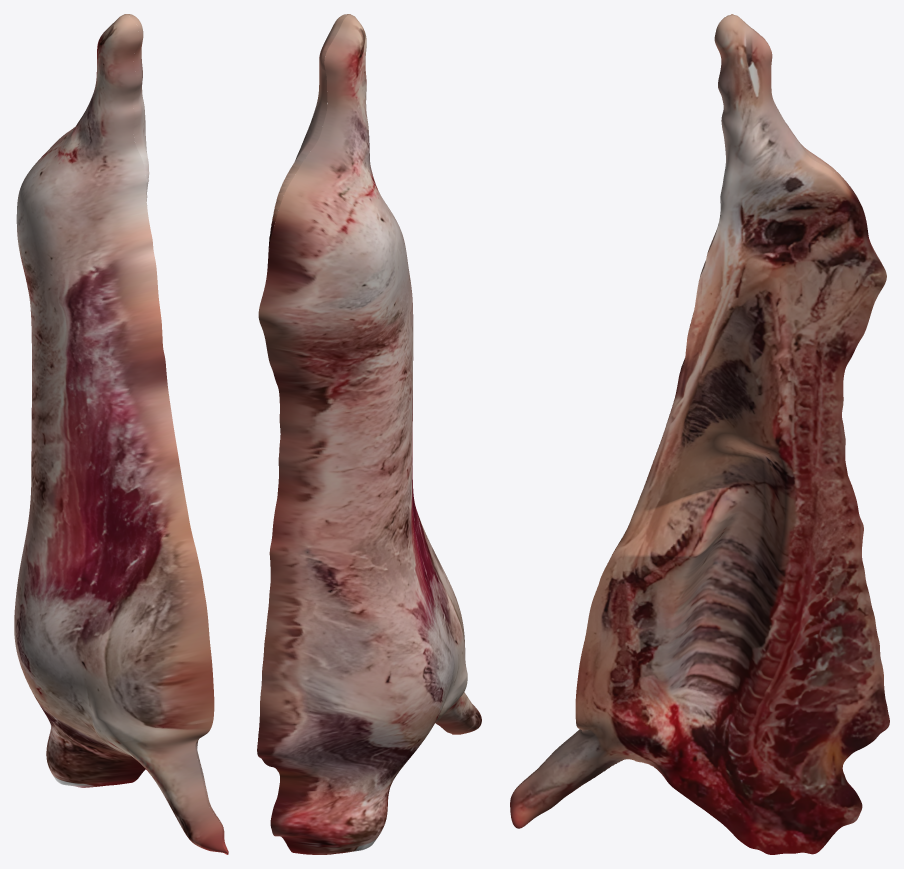
Rendered from demi_carcasse_boeuf_v16.glb.
The picture shows the model from 3 angles, left to right: view 1: azimuth 30°, elevation 25°; view 2: azimuth 150°, elevation 25°; view 3: azimuth 270°, elevation 25°; orthographic projection. The views are drawn at different scales.
Parts seen in each view (by area): view 1: face_exterieure, face_de_fente; view 2: face_exterieure, face_de_fente; view 3: face_de_fente, face_exterieure.
Boxes of the visible parts, left/top/right/bottom form: face_exterieure: left=14, top=14, right=228, bottom=854; face_de_fente: left=126, top=14, right=228, bottom=853; face_exterieure: left=257, top=14, right=481, bottom=854; face_de_fente: left=268, top=14, right=452, bottom=734; face_de_fente: left=510, top=15, right=889, bottom=854; face_exterieure: left=513, top=14, right=882, bottom=792.
Bounding box in the file's own units: 0.4164 × 2.5 × 1.03.
Materials: 2 (2 with a texture image).
